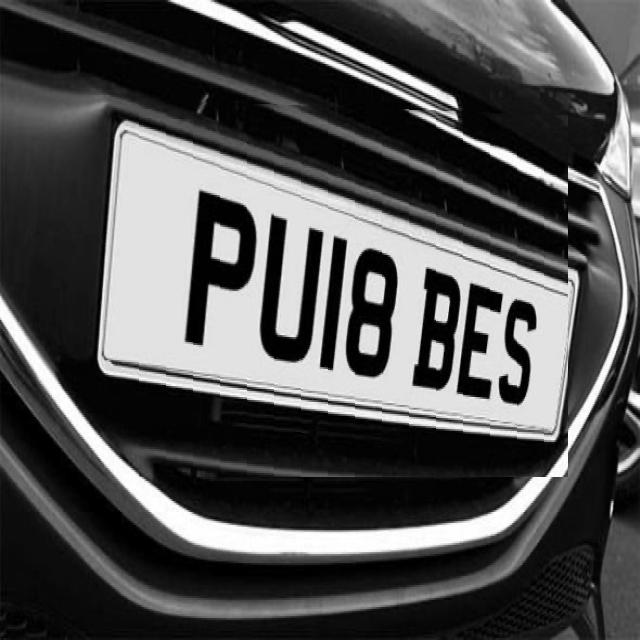licence: (125, 99, 568, 477)
